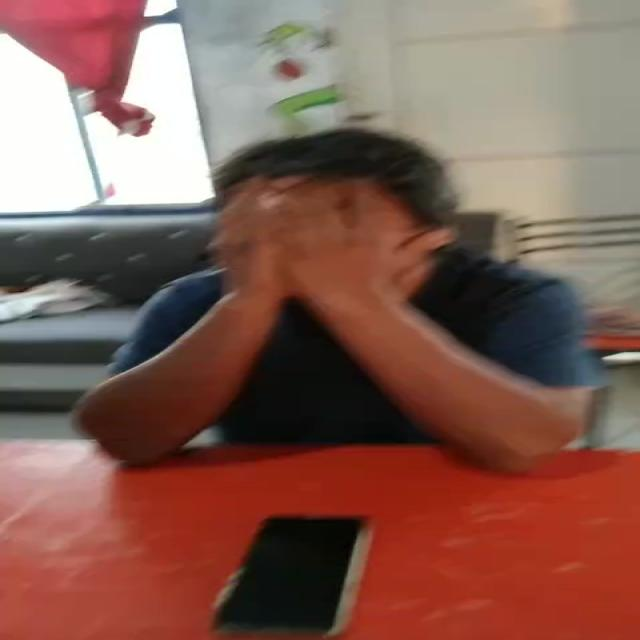7_mano_rostro: (218, 175, 423, 352)
